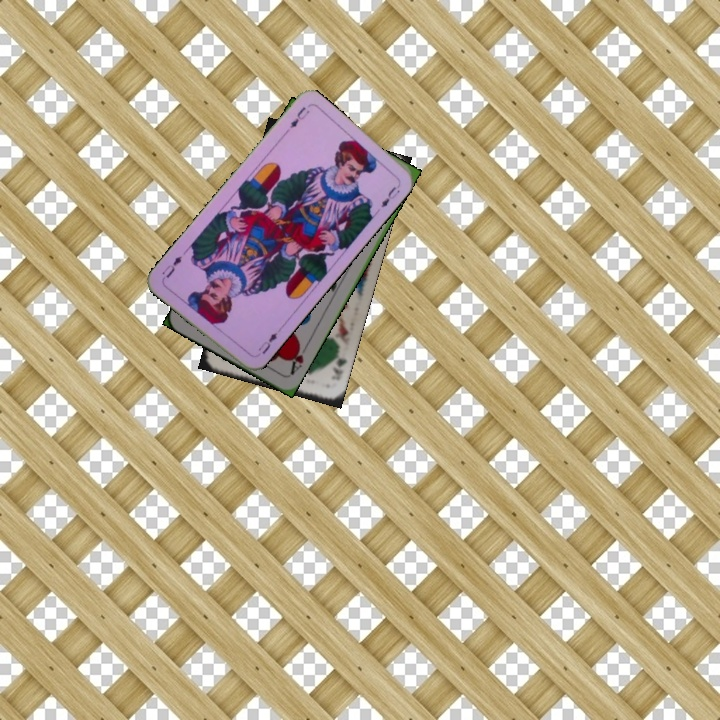EU: (254, 328, 280, 357), (286, 102, 312, 131)
GK: (327, 348, 349, 383)
HA: (285, 339, 311, 378)
